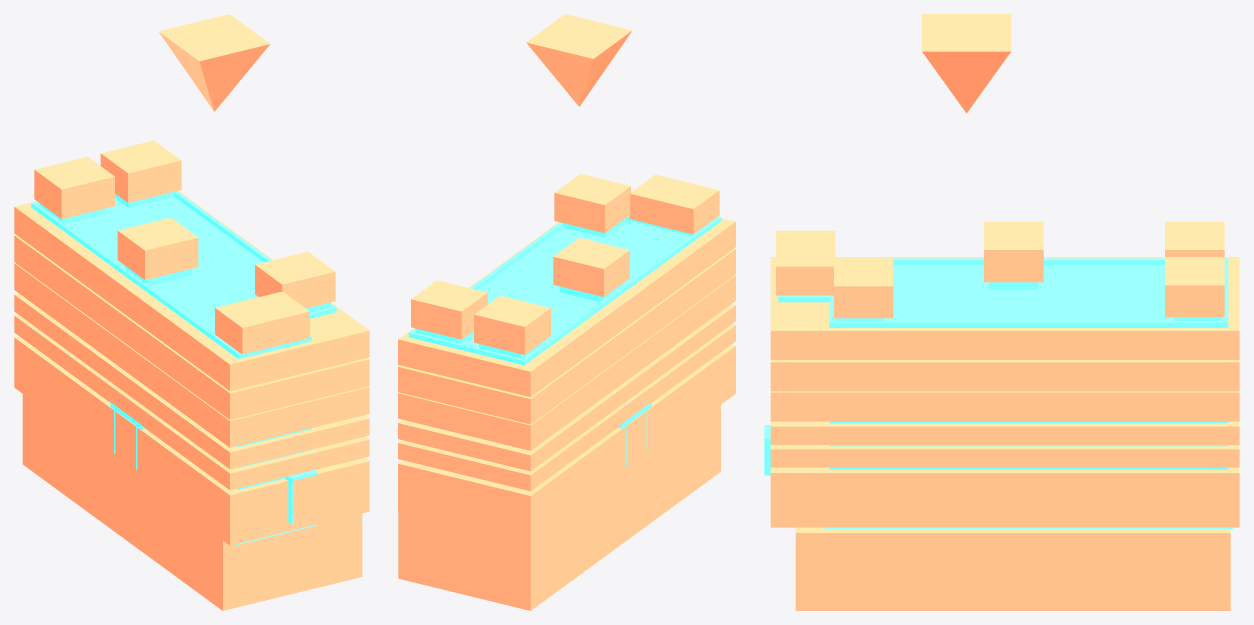
The picture shows the model from 3 angles, left to right: view 1: azimuth 30°, elevation 25°; view 2: azimuth 150°, elevation 25°; view 3: azimuth 270°, elevation 25°; orthographic projection. The views are drawn at different scales.
Parts seen in each view (by area): view 1: fire, 前窗户, fire-mark, subject; view 2: fire, 前窗户, fire-mark, subject; view 3: fire, 前窗户, subject, fire-mark.
Boxes of the visible parts, bbox=[...] form: fire: bbox=[14, 140, 369, 610]; 前窗户: bbox=[31, 191, 336, 543]; fire-mark: bbox=[158, 14, 269, 111]; subject: bbox=[31, 192, 336, 544]; fire: bbox=[398, 174, 735, 610]; 前窗户: bbox=[408, 216, 721, 465]; fire-mark: bbox=[526, 14, 632, 106]; subject: bbox=[408, 218, 721, 466]; fire: bbox=[770, 221, 1239, 610]; 前窗户: bbox=[764, 258, 1232, 527]; subject: bbox=[764, 261, 1232, 529]; fire-mark: bbox=[922, 14, 1011, 113].
Bounding box in the file's own units: 20.22 × 67.05 × 53.34.
